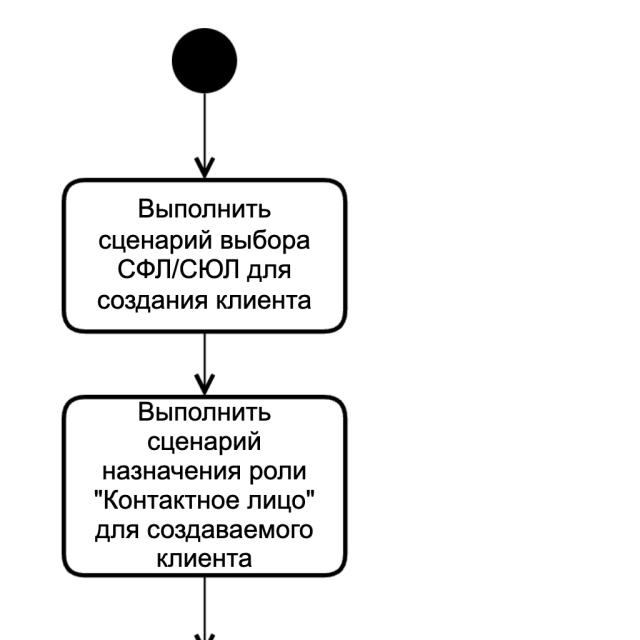arrow: (187, 94, 216, 179), (187, 334, 217, 395)
circle: (172, 29, 236, 93)
rectangle: (62, 396, 346, 576), (62, 179, 346, 333)
